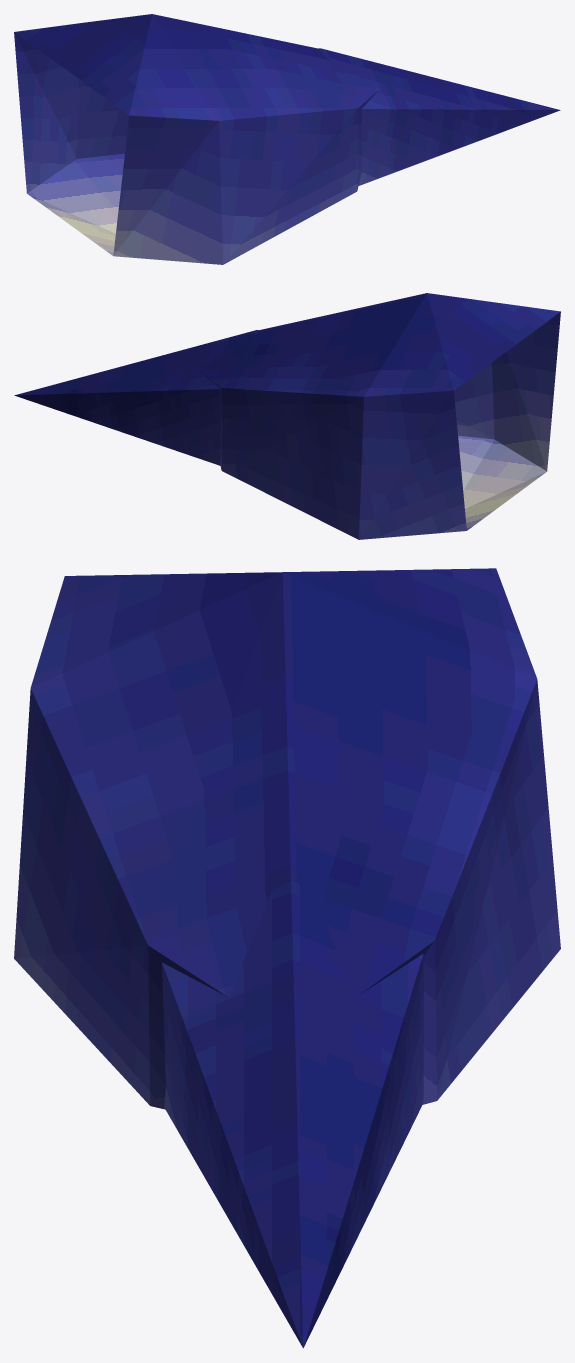
Rendered from cola.obj.
3 renders of one model, top to bottom at view 1: azimuth 30°, elevation 25°; view 2: azimuth 150°, elevation 25°; view 3: azimuth 270°, elevation 25°, orthographic. The views are drawn at different scales.
Parts seen in each view (by area): view 1: polySurface7; view 2: polySurface7; view 3: polySurface7.
Part boxes in pixels (x1=…): polySurface7: x1=14, y1=14, x2=560, y2=264; polySurface7: x1=14, y1=293, x2=560, y2=539; polySurface7: x1=14, y1=568, x2=560, y2=1348.
Size of the model in its own units: 2.66 by 1.13 by 1.32.
1 material, 1 textured.
